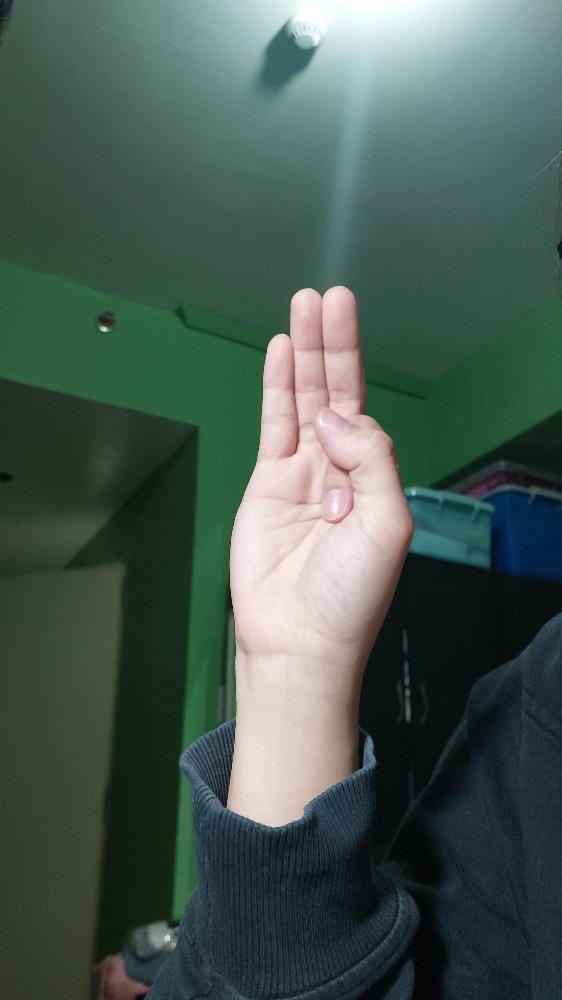f: (227, 284, 414, 656)
